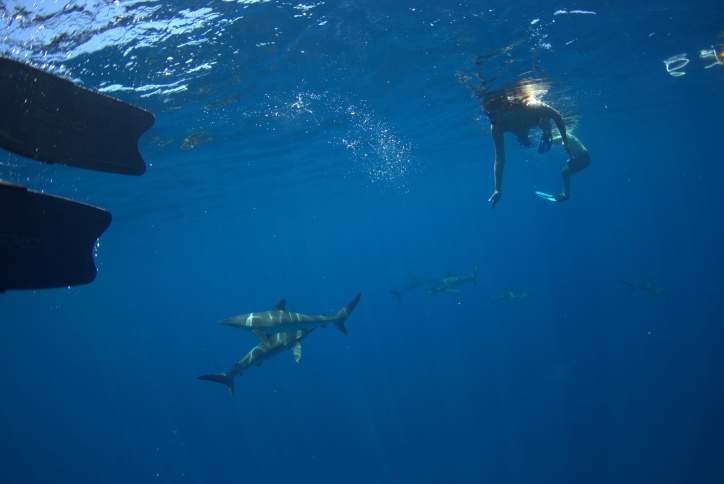Sedoso: (214, 290, 377, 337)
